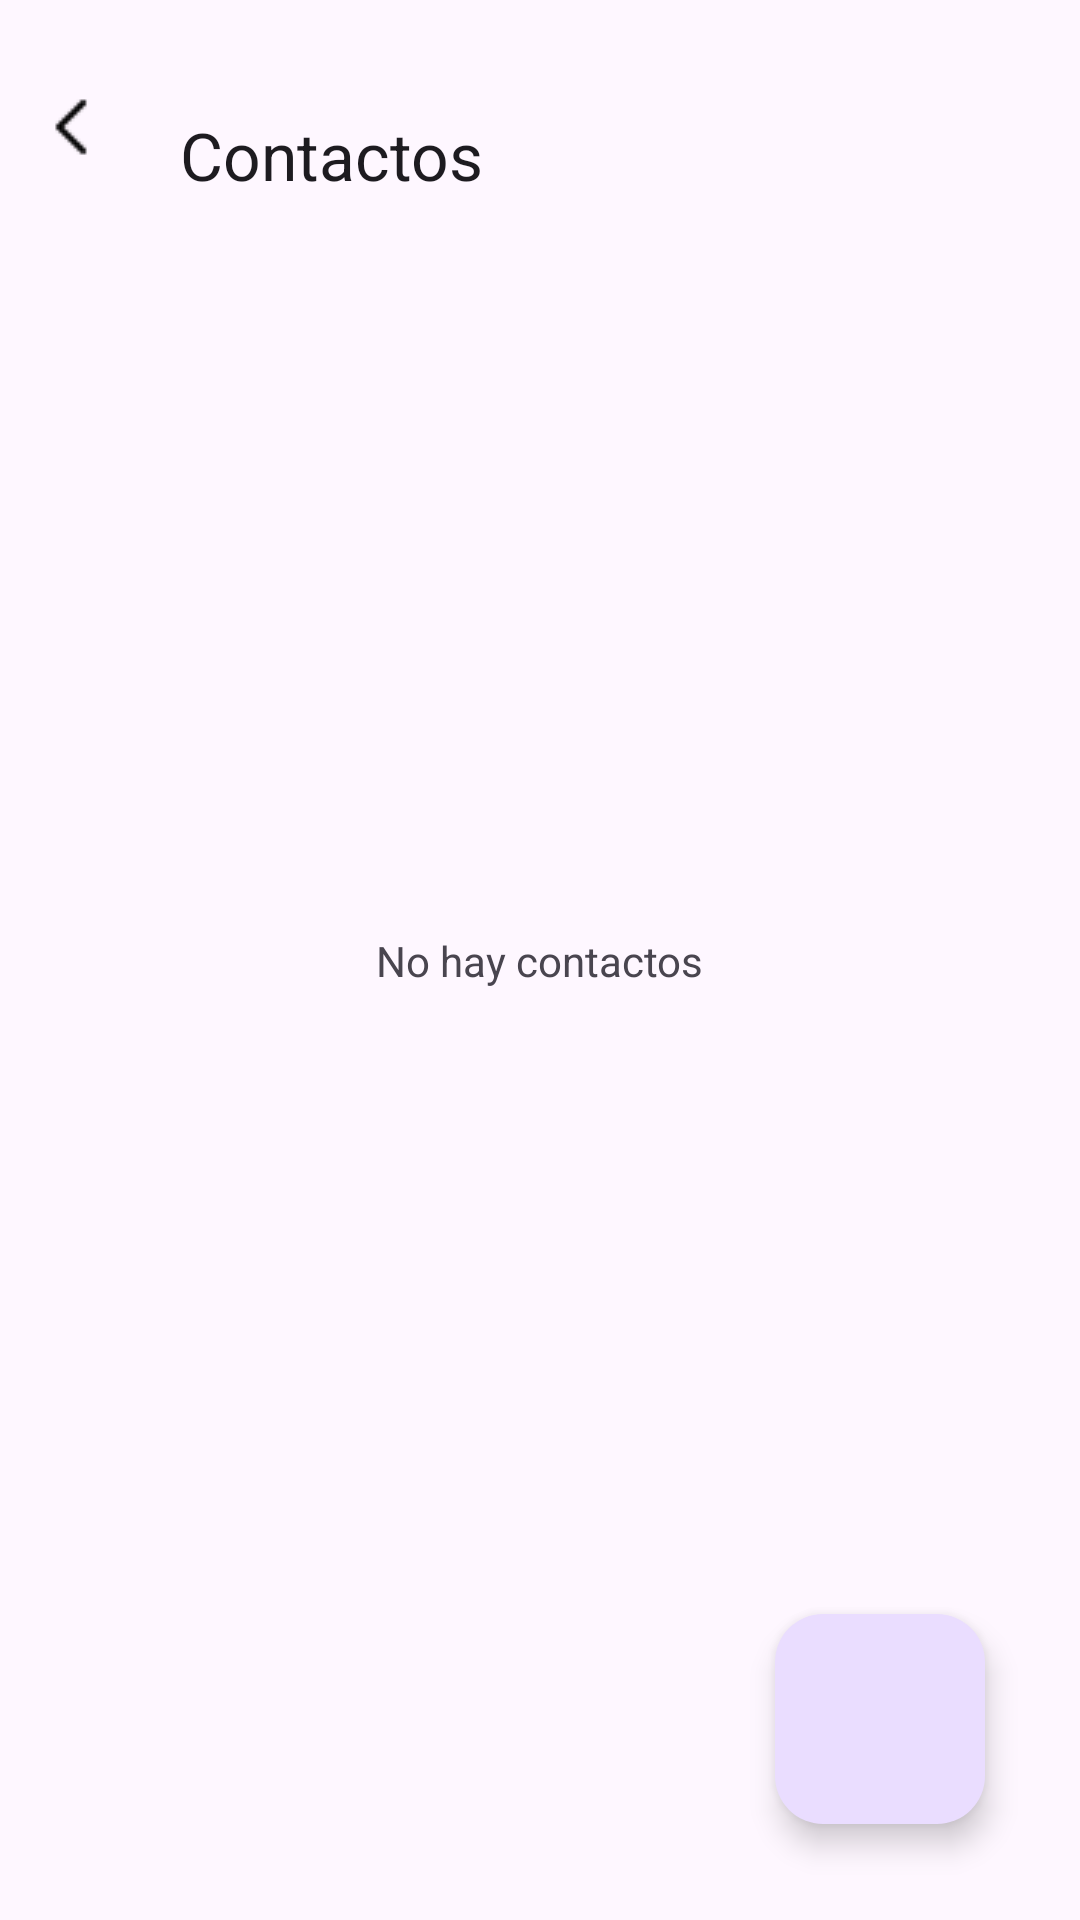

Point at icon controls on the screen. Image size 1080px×1920px, points as [x,y].
atras: [71,127]
